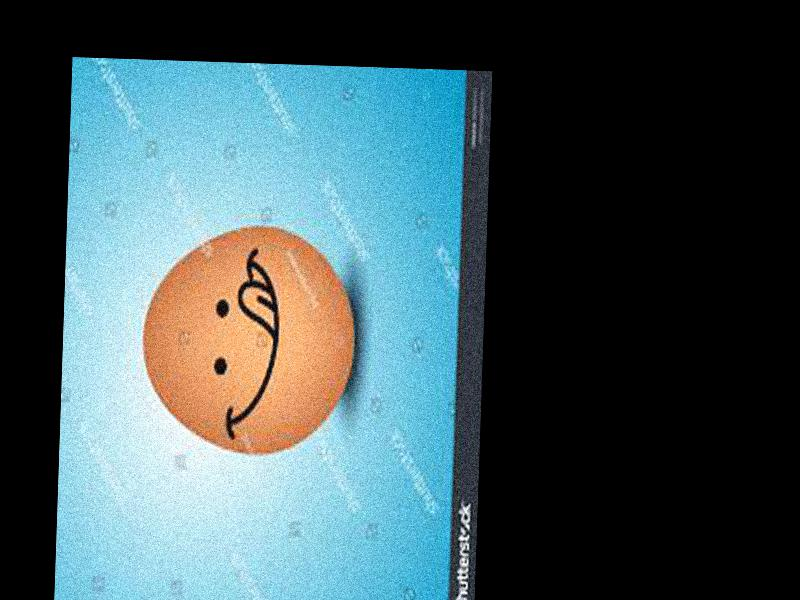Eggs: (139, 221, 358, 458)
